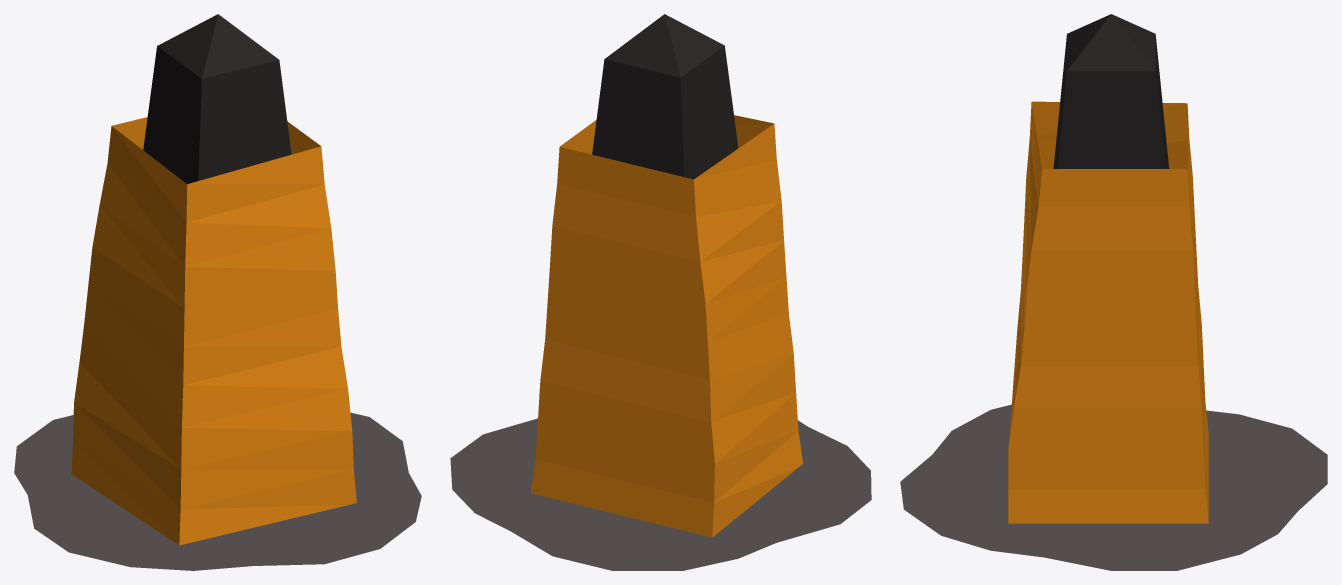
The model's file is obj_obelisk_of_fire_0.obj.
3 renders of one model, left to right at view 1: azimuth 30°, elevation 25°; view 2: azimuth 150°, elevation 25°; view 3: azimuth 270°, elevation 25°, orthographic.
Size of the model in its own units: 1.84 by 2.28 by 1.88.
